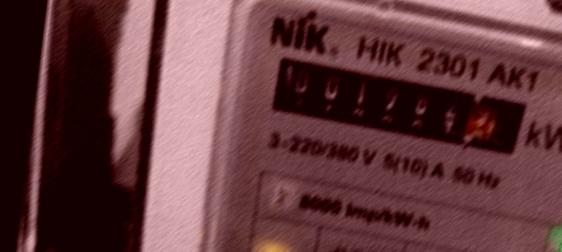0: (292, 65, 312, 96), (322, 72, 342, 103)
1: (353, 76, 369, 106)
2: (442, 90, 464, 121)
8: (412, 88, 432, 117)
9: (472, 100, 496, 130), (382, 83, 400, 113)
screen: (253, 41, 543, 172)
